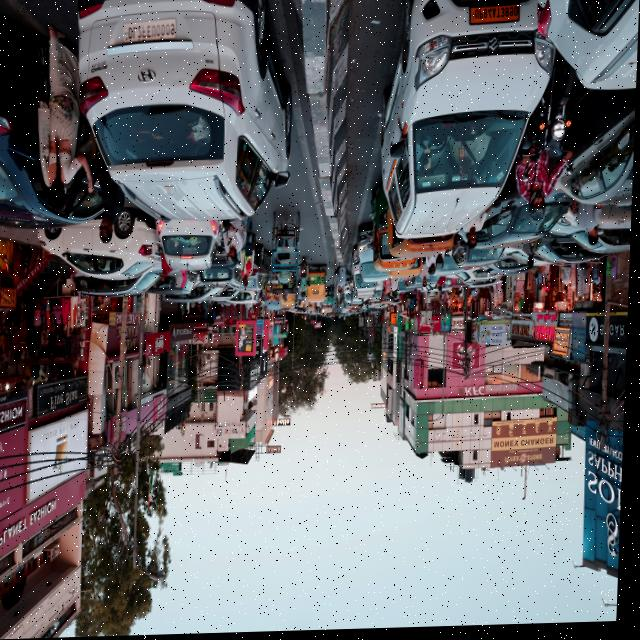plate: (121, 20, 179, 47), (465, 6, 523, 30), (304, 271, 308, 275), (323, 277, 327, 280)
